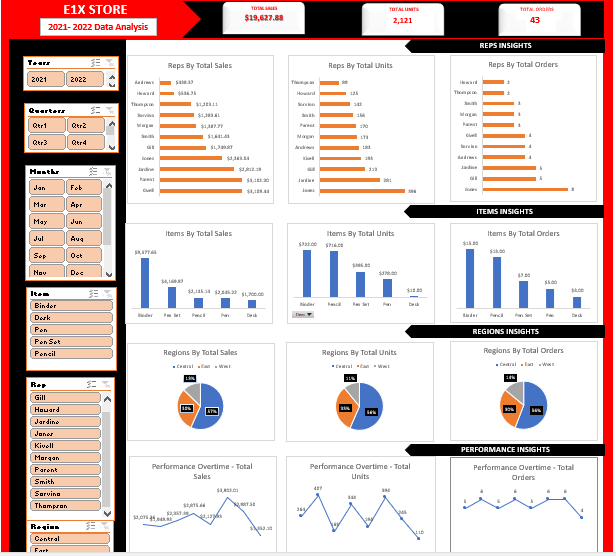

The page's visual inventory and layout, read from the dashboard file:
{"tool":"powerbi","page":{"name":"Main","canvas":[1280,720],"ordinal":0},"visuals":[{"type":"shape","box":[0,109.8,316.5,609.2],"z":0},{"type":"shape","box":[0,0,342,112.9],"z":1000},{"type":"image","box":[0,8,318.1,105],"z":2000},{"type":"shape","box":[461.3,0,179.7,112.9],"z":3000},{"type":"shape","box":[661.7,0,190.9,109.8],"z":4000},{"type":"shape","box":[865.3,0,203.6,112.9],"z":5000},{"type":"shape","box":[1084.8,0,194.1,112.9],"z":6000},{"type":"shape","box":[338.3,0,941.1,17],"z":7000},{"type":"shape","box":[292.7,0,141.6,112.9],"z":8000},{"type":"card","title":"Revenue","fields":{"Values":["Sum(E1x_Store.Total)"]},"box":[491.3,20.8,119.1,88.8],"z":9000},{"type":"card","title":"Total Units","fields":{"Values":["Sum(Table1_1.Units)"]},"box":[684,20.7,147.9,74.8],"z":10000},{"type":"card","title":"Total Orders","fields":{"Values":["CountNonNull(Table1_1.OrderDate)"]},"box":[882.8,17.5,168.6,77.9],"z":11000},{"type":"card","title":"Avg. Cost","fields":{"Values":["Avg(Table1_1.Unit Cost)"]},"box":[1115,17.5,136.8,77.9],"z":12000},{"type":"donutChart","title":"Revenue by Region","fields":{"Y":["Sum(Table1_1.Total)"],"Category":["Table1_1.Region"]},"box":[898.7,119.3,380.2,240.2],"z":13000},{"type":"lineClusteredColumnComboChart","title":"Revenue and Total Units by Month","fields":{"Category":["Table1_1.OrderDate.Variation.Date Hierarchy.Month"],"Y":["Sum(Table1_1.Total)"],"Y2":["Sum(Table1_1.Units)"]},"box":[610.8,359.5,668.1,361.1],"z":14000},{"type":"clusteredBarChart","title":"Total Orders by Rep","fields":{"Category":["Table1_1.Rep"],"Y":["CountNonNull(Table1_1.Units)"]},"box":[318.1,377,292.7,340.4],"z":15000},{"type":"multiRowCard","fields":{"Values":["Sum(Table1_1.Total)","Sum(Table1_1.Units)","Table1_1.Rep"]},"box":[614,119.3,284.7,240.2],"z":16000},{"type":"clusteredBarChart","title":"Revenue and Total Units by Item","fields":{"Y":["Sum(Table1_1.Total)","Sum(Table1_1.Units)"],"Category":["Table1_1.Item"]},"box":[318.1,112.9,303.8,264],"z":17000},{"type":"advancedSlicerVisual","title":"Filter By Month","fields":{"Values":["Table1_1.Month_Name"]},"box":[11.1,265.6,283.1,187.7],"z":18000},{"type":"slicer","title":"Filter By Reps","fields":{"Values":["Table1_1.Rep"]},"box":[9.5,612.4,283.1,74.8],"z":19000},{"type":"slicer","title":"Filter By Quarter","fields":{"Values":["Table1_1.OrderDate.Variation.Date Hierarchy.Quarter"]},"box":[11.1,190.9,281.5,63.6],"z":20000},{"type":"slicer","title":"Filter By Year","fields":{"Values":["Table1_1.OrderDate.Variation.Date Hierarchy.Year"]},"box":[0,119.3,291.1,71.6],"z":21000},{"type":"slicer","title":"Filter By Item","fields":{"Values":["Table1_1.Item"]},"box":[9.5,526.5,281.5,85.9],"z":22000},{"type":"slicer","title":"Filter By Region","fields":{"Values":["Table1_1.Region"]},"box":[0,453.3,316.5,68.4],"z":23000}]}

Visuals, with their boxes on the page's 1280x720 design canvas (x1, y1, x2, y2). These are canvas units, not pixel positions in the 616x556 screenshot, which may show the page scaled, cropped or inside an application window:
shape: bbox=(0, 110, 316, 719)
shape: bbox=(0, 0, 342, 113)
image: bbox=(0, 8, 318, 113)
shape: bbox=(461, 0, 641, 113)
shape: bbox=(662, 0, 853, 110)
shape: bbox=(865, 0, 1069, 113)
shape: bbox=(1085, 0, 1279, 113)
shape: bbox=(338, 0, 1279, 17)
shape: bbox=(293, 0, 434, 113)
"Revenue" card: bbox=(491, 21, 610, 110)
"Total Units" card: bbox=(684, 21, 832, 96)
"Total Orders" card: bbox=(883, 18, 1051, 95)
"Avg. Cost" card: bbox=(1115, 18, 1252, 95)
"Revenue by Region" donutChart: bbox=(899, 119, 1279, 360)
"Revenue and Total Units by Month" lineClusteredColumnComboChart: bbox=(611, 360, 1279, 721)
"Total Orders by Rep" clusteredBarChart: bbox=(318, 377, 611, 717)
multiRowCard - Sum(Table1_1.Total) x Sum(Table1_1.Units): bbox=(614, 119, 899, 360)
"Revenue and Total Units by Item" clusteredBarChart: bbox=(318, 113, 622, 377)
"Filter By Month" advancedSlicerVisual: bbox=(11, 266, 294, 453)
"Filter By Reps" slicer: bbox=(10, 612, 293, 687)
"Filter By Quarter" slicer: bbox=(11, 191, 293, 254)
"Filter By Year" slicer: bbox=(0, 119, 291, 191)
"Filter By Item" slicer: bbox=(10, 526, 291, 612)
"Filter By Region" slicer: bbox=(0, 453, 316, 522)
